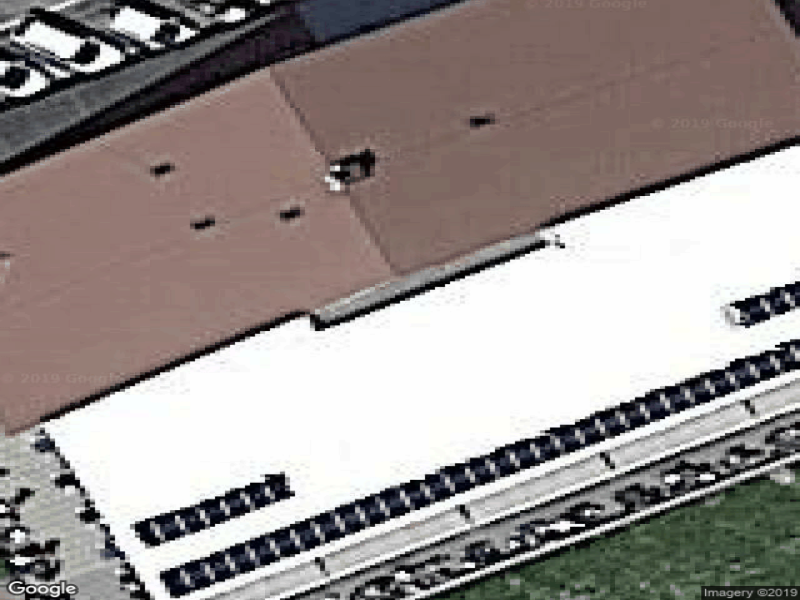pv: (48, 140, 800, 598)
